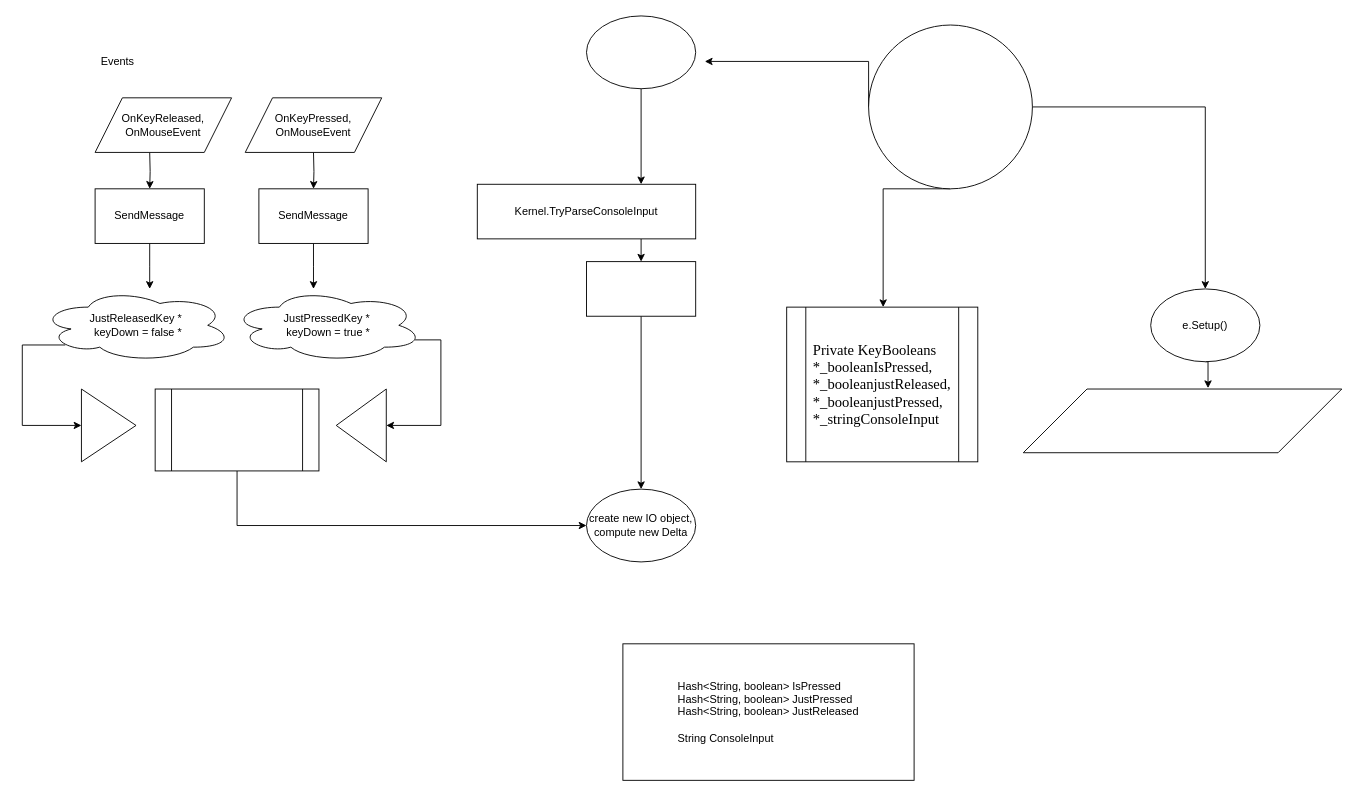
This 1358x796 diagram has some shape labels left out. Each missing label, with the centre of its shape:
"Configure private KeyBooleans" goes at pixel 1182 420.
"e.Update" goes at pixel 641 52.
"engine (e)" goes at pixel 950 106.
"LinkedList<IOMessage>" goes at pixel 236 429.
"Read _ioMessages" goes at pixel 641 288.
